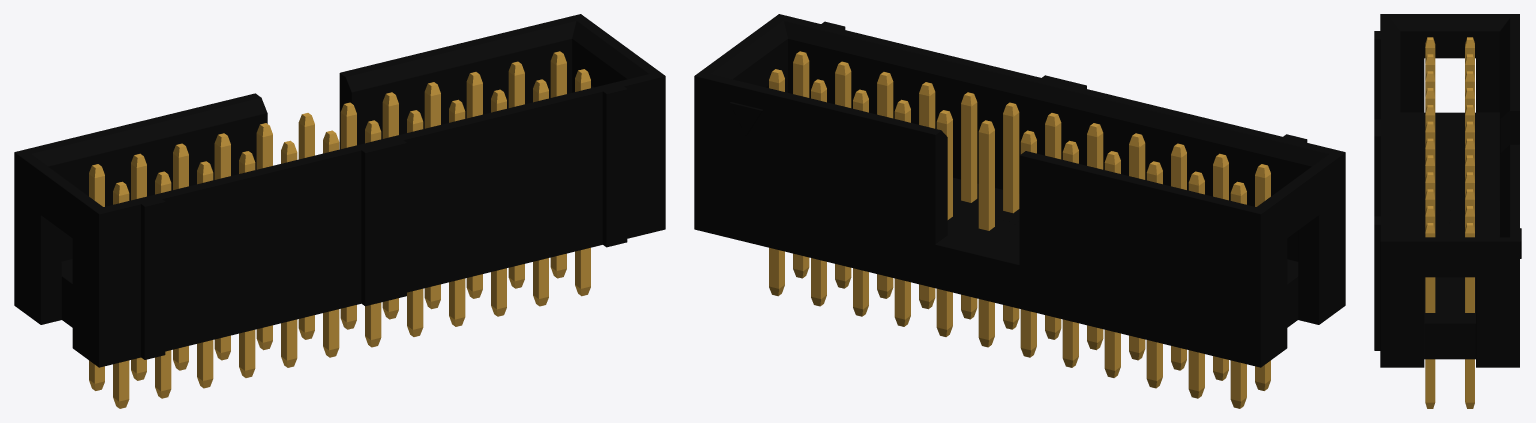
The picture shows the model from 3 angles, left to right: view 1: azimuth 30°, elevation 25°; view 2: azimuth 150°, elevation 25°; view 3: azimuth 270°, elevation 25°; orthographic projection. The views are drawn at different scales.
Parts seen in each view (by area): view 1: 24-Pin Shrouded Header Body:1, Straight Contact:13, Straight Contact:18, Straight Contact:16, Straight Contact:23, Straight Contact:17, Straight Contact:19, Straight Contact:3, Straight Contact:4, Straight Contact:7, Straight Contact:8, Straight Contact:9 (+13 smaller); view 2: 24-Pin Shrouded Header Body:1, Straight Contact:6, Straight Contact:14, Straight Contact:15, Straight Contact:5, Straight Contact:7, Straight Contact:4, Straight Contact:9, Straight Contact:22, Straight Contact:24, Straight Contact:8, Straight Contact:20 (+13 smaller); view 3: 24-Pin Shrouded Header Body:1, Straight Contact:10, Straight Contact:1, Straight Contact:13, Straight Contact:21, Straight Contact:14, Straight Contact:15, Straight Contact:16, Straight Contact:23, Straight Contact:11, Straight Contact:12, Straight Contact:17 (+13 smaller).
Boxes of the visible parts, x1=… form: 24-Pin Shrouded Header Body:1: x1=14, y1=14, x2=665, y2=367; Straight Contact:13: x1=449, y1=99, x2=465, y2=326; Straight Contact:18: x1=239, y1=151, x2=255, y2=377; Straight Contact:16: x1=323, y1=130, x2=339, y2=357; Straight Contact:23: x1=113, y1=181, x2=129, y2=408; Straight Contact:17: x1=281, y1=140, x2=297, y2=367; Straight Contact:19: x1=197, y1=161, x2=213, y2=388; Straight Contact:3: x1=466, y1=72, x2=482, y2=298; Straight Contact:4: x1=424, y1=82, x2=440, y2=309; Straight Contact:7: x1=298, y1=113, x2=314, y2=339; Straight Contact:8: x1=256, y1=123, x2=272, y2=350; Straight Contact:9: x1=214, y1=133, x2=230, y2=360; 24-Pin Shrouded Header Body:1: x1=694, y1=14, x2=1345, y2=367; Straight Contact:6: x1=978, y1=120, x2=994, y2=347; Straight Contact:14: x1=961, y1=92, x2=977, y2=319; Straight Contact:15: x1=1003, y1=102, x2=1019, y2=329; Straight Contact:5: x1=936, y1=110, x2=952, y2=336; Straight Contact:7: x1=1020, y1=130, x2=1036, y2=357; Straight Contact:4: x1=894, y1=99, x2=910, y2=326; Straight Contact:9: x1=1104, y1=151, x2=1120, y2=377; Straight Contact:22: x1=1188, y1=171, x2=1204, y2=398; Straight Contact:24: x1=1230, y1=181, x2=1246, y2=408; Straight Contact:8: x1=1062, y1=140, x2=1078, y2=367; Straight Contact:20: x1=1146, y1=161, x2=1162, y2=388; 24-Pin Shrouded Header Body:1: x1=1374, y1=14, x2=1521, y2=367; Straight Contact:10: x1=1425, y1=223, x2=1435, y2=408; Straight Contact:1: x1=1465, y1=223, x2=1474, y2=408; Straight Contact:13: x1=1425, y1=172, x2=1435, y2=194; Straight Contact:21: x1=1425, y1=54, x2=1435, y2=76; Straight Contact:14: x1=1425, y1=155, x2=1435, y2=177; Straight Contact:15: x1=1425, y1=138, x2=1435, y2=161; Straight Contact:16: x1=1425, y1=121, x2=1435, y2=144; Straight Contact:23: x1=1425, y1=37, x2=1435, y2=59; Straight Contact:11: x1=1425, y1=206, x2=1435, y2=228; Straight Contact:12: x1=1425, y1=189, x2=1435, y2=211; Straight Contact:17: x1=1425, y1=105, x2=1435, y2=127.
Size of the model in its own units: 0.0343 by 0.0132 by 0.00937.
